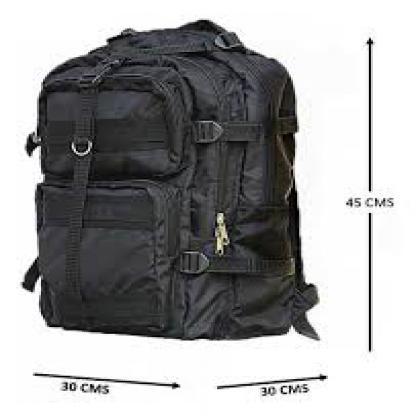morral: (14, 10, 338, 347)
